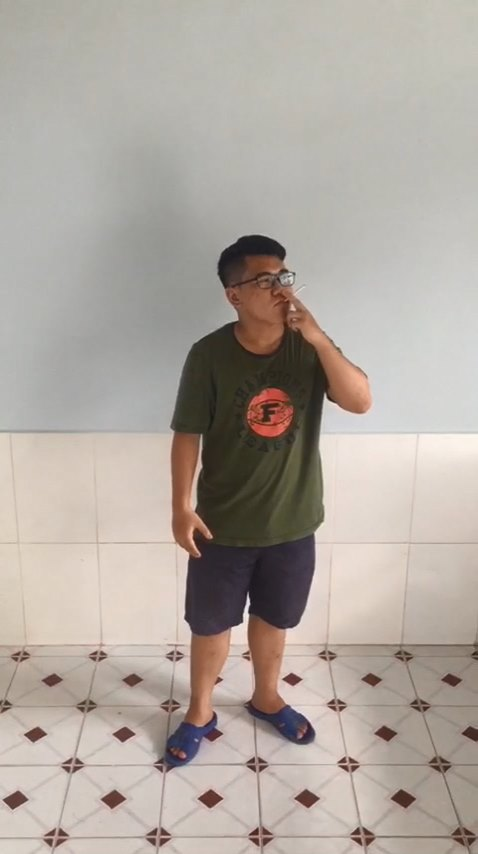cigarette: (286, 284, 311, 301)
person: (132, 208, 387, 795)
